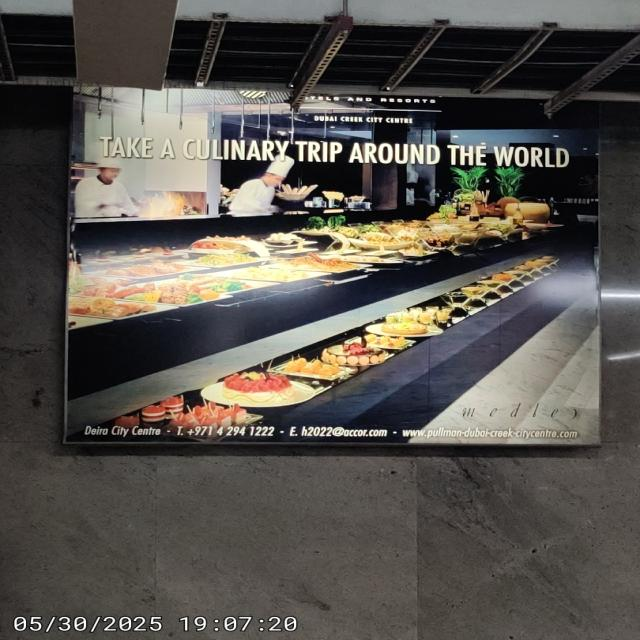poster: (65, 91, 599, 447)
